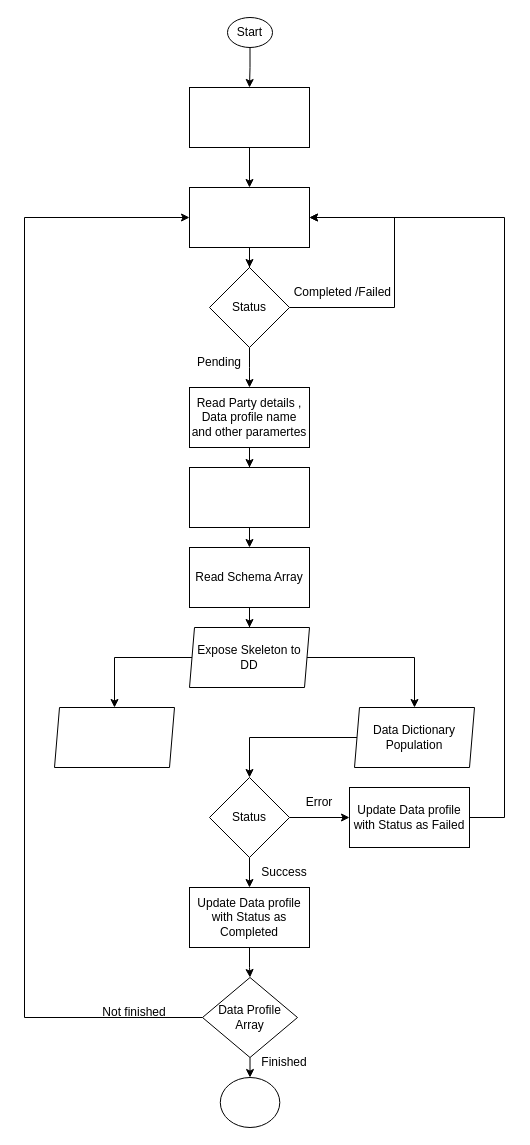
Some shapes in this 530 by 1145 pixel diagram are drawn without their labels. Each missing label, with the centre of its shape:
"Get Data profile array" belongs at (249,117).
"Insert into Application Table" belongs at (249,497).
"Parser Configuration Updation" belongs at (114,737).
"Read single data profile" belongs at (249,217).
"Stop" belongs at (249,1102).
